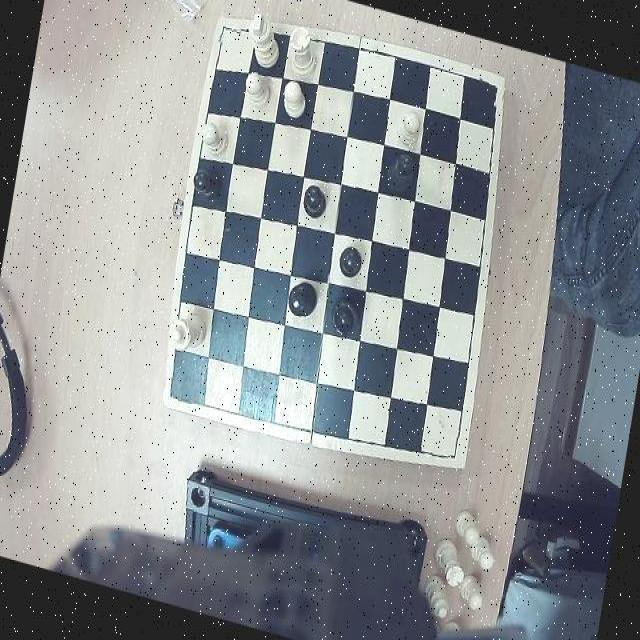chess-table-corners: (432, 432, 466, 468), (163, 376, 196, 410), (475, 74, 507, 109), (214, 16, 242, 50)
